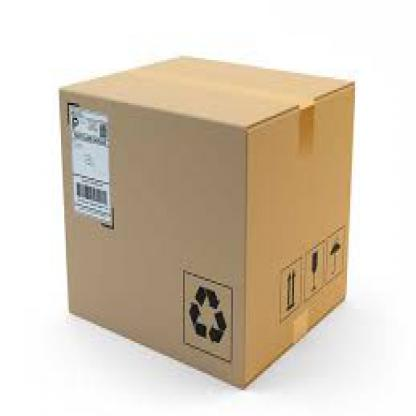paquete: (50, 34, 376, 392)
